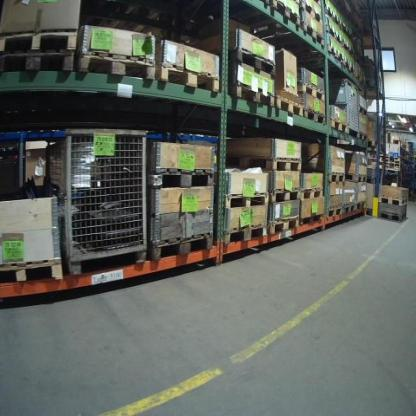pallet: (78, 53, 156, 81), (157, 61, 221, 94), (0, 27, 78, 54), (0, 48, 78, 74), (149, 231, 215, 261), (0, 257, 65, 284), (229, 47, 279, 78), (147, 166, 216, 188), (226, 153, 303, 172), (229, 80, 274, 107), (224, 222, 270, 246), (224, 191, 270, 211), (270, 0, 301, 27), (268, 214, 300, 236), (274, 96, 304, 117), (300, 23, 325, 48), (297, 83, 326, 103), (300, 1, 324, 24), (270, 187, 301, 204), (303, 107, 326, 125), (300, 186, 324, 201), (378, 196, 409, 207), (300, 213, 324, 226), (377, 212, 407, 222), (328, 119, 347, 133), (327, 172, 346, 183), (346, 173, 366, 183), (327, 205, 342, 216), (343, 202, 355, 214), (357, 131, 368, 141), (355, 201, 365, 210)
stillage: (40, 121, 152, 277), (324, 74, 363, 145)
